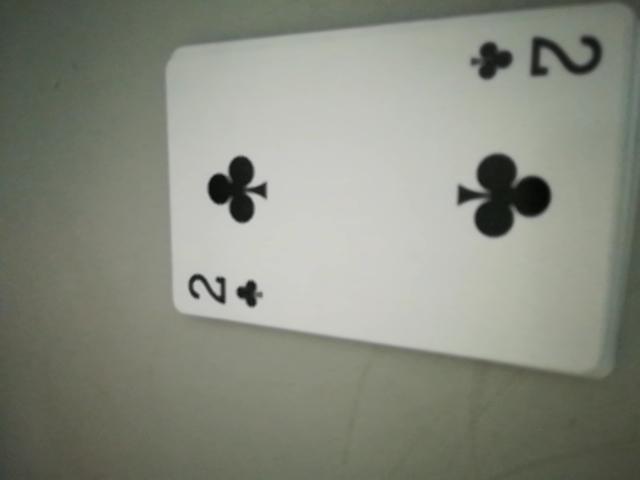mh 2: (468, 25, 604, 91), (180, 263, 273, 318)
